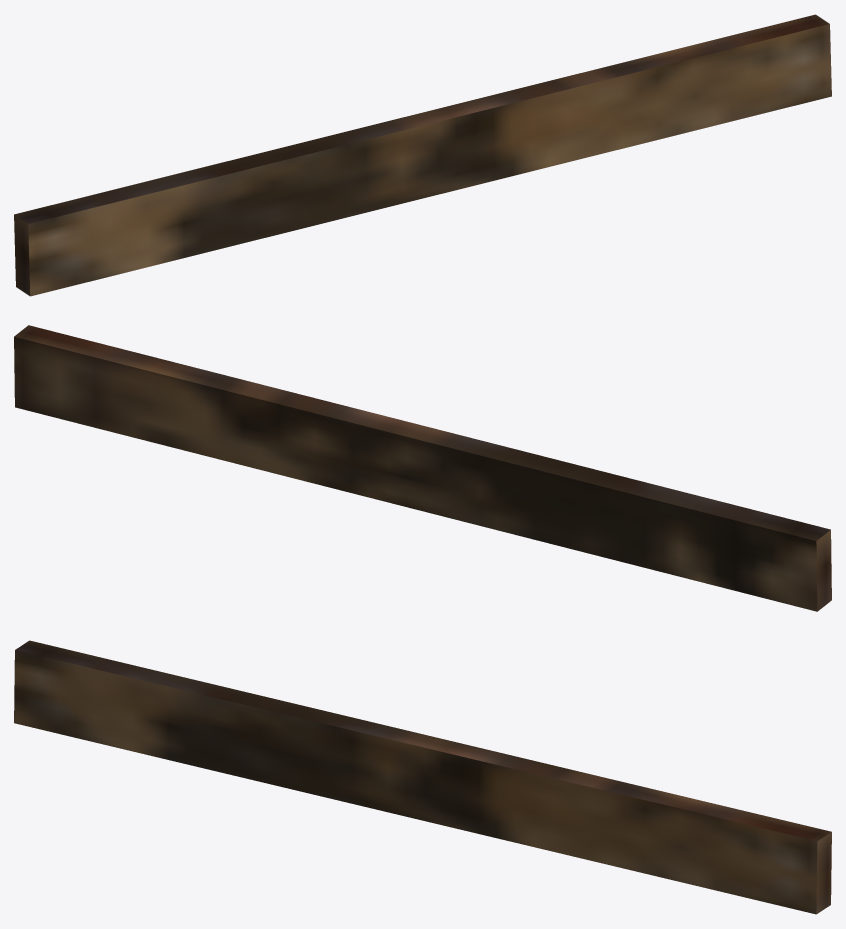
The model's file is Plank.fbx.
3 renders of one model, top to bottom at view 1: azimuth 30°, elevation 25°; view 2: azimuth 150°, elevation 25°; view 3: azimuth 330°, elevation 25°, orthographic.
Parts seen in each view (by area): view 1: Box_V2.007; view 2: Box_V2.007; view 3: Box_V2.007.
Boxes of the visible parts, left/top/right/bottom form: Box_V2.007: left=14, top=14, right=831, bottom=296; Box_V2.007: left=14, top=325, right=831, bottom=611; Box_V2.007: left=14, top=640, right=831, bottom=914.
Bounding box in the file's own units: 472 × 44.54 × 18.38.
1 material, 1 textured.
